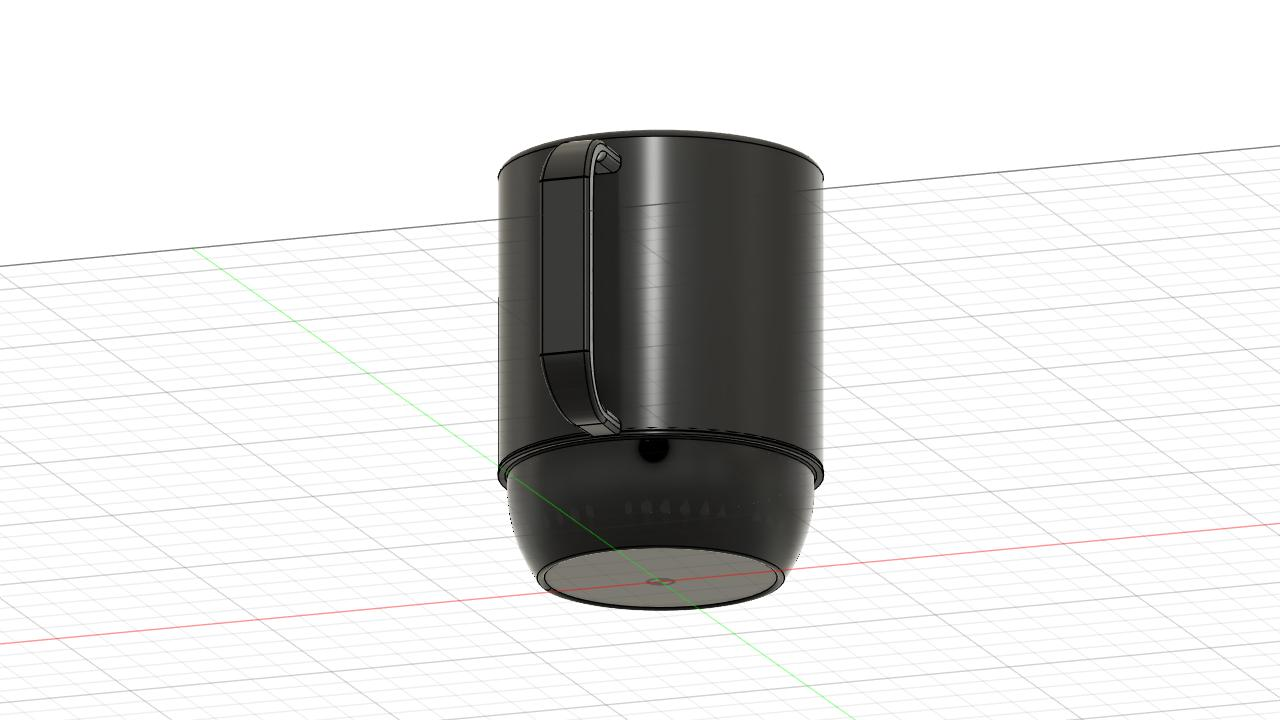mug-real100-3d100: (498, 131, 823, 610)
